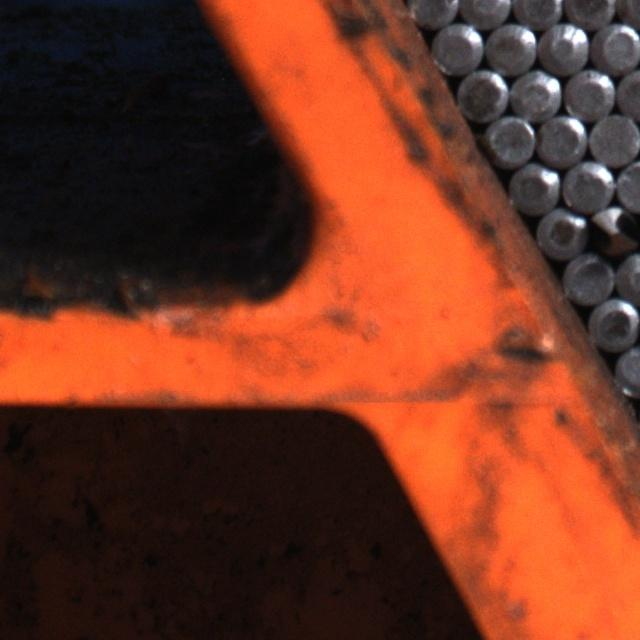tool: (560, 159, 614, 213), (484, 19, 537, 73), (587, 110, 640, 164), (562, 250, 615, 304), (537, 20, 590, 73), (587, 296, 640, 349), (535, 112, 587, 166), (563, 67, 615, 120), (506, 161, 558, 214), (458, 66, 510, 119), (532, 206, 584, 259), (510, 68, 562, 120), (429, 20, 480, 72), (485, 112, 536, 164), (592, 203, 640, 257), (592, 20, 640, 71), (512, 0, 565, 27), (565, 0, 617, 27), (459, 0, 512, 26), (614, 158, 640, 210), (404, 0, 456, 26), (613, 344, 640, 394), (615, 251, 640, 303), (616, 66, 640, 120)
